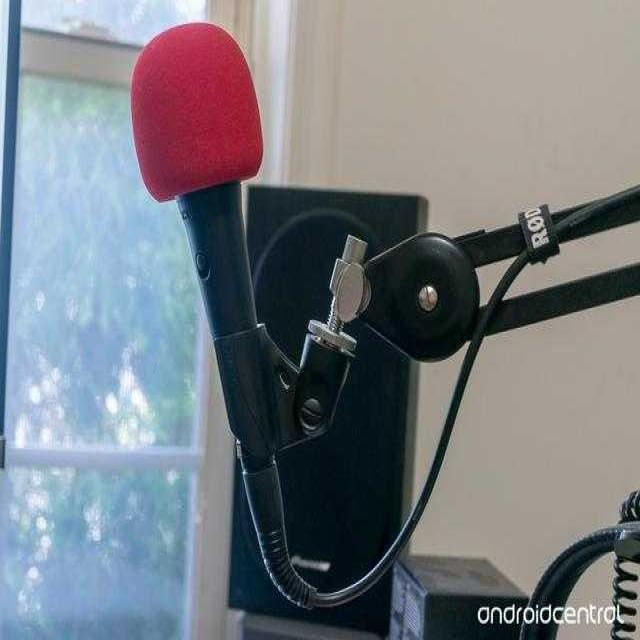microphone: (128, 20, 298, 455)
